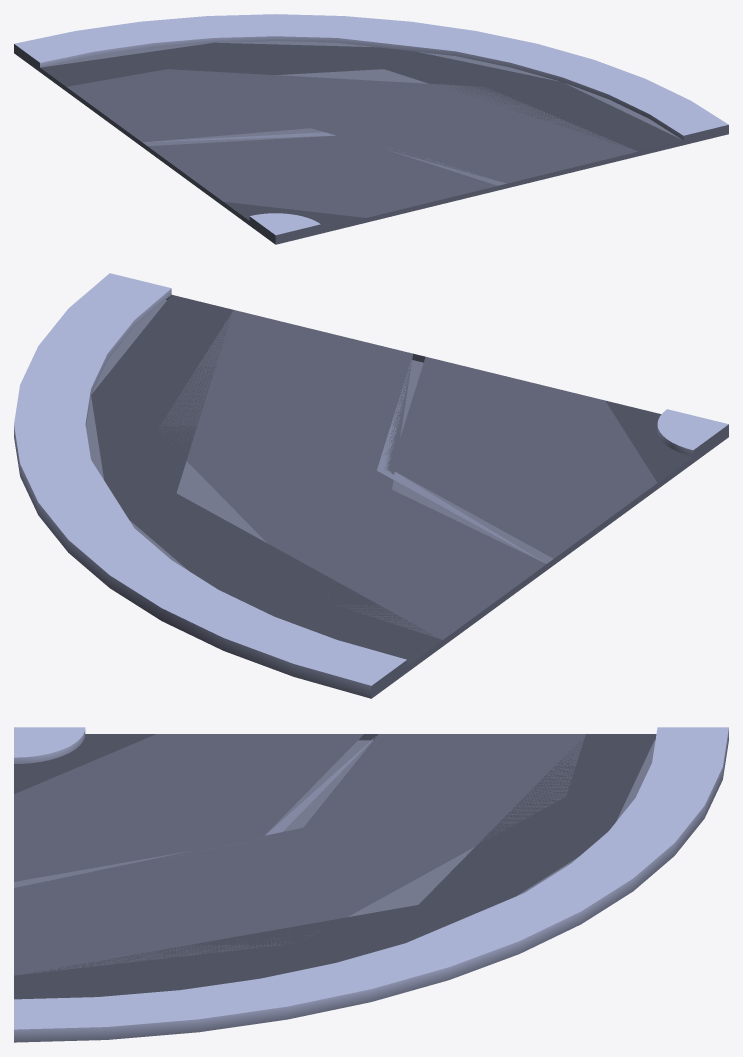
File: road-bend.glb
The picture shows the model from 3 angles, top to bottom: view 1: azimuth 30°, elevation 25°; view 2: azimuth 150°, elevation 25°; view 3: azimuth 270°, elevation 25°; orthographic projection. The views are drawn at different scales.
Visible parts, largest first — view 1: road-bend; view 2: road-bend; view 3: road-bend.
Part boxes in pixels (<box>): road-bend: <box>14,14,728,244</box>; road-bend: <box>14,273,728,698</box>; road-bend: <box>14,727,728,1042</box>.
Size of the model in its own units: 1 by 0.02 by 1.
Materials: 1 (1 with a texture image).
